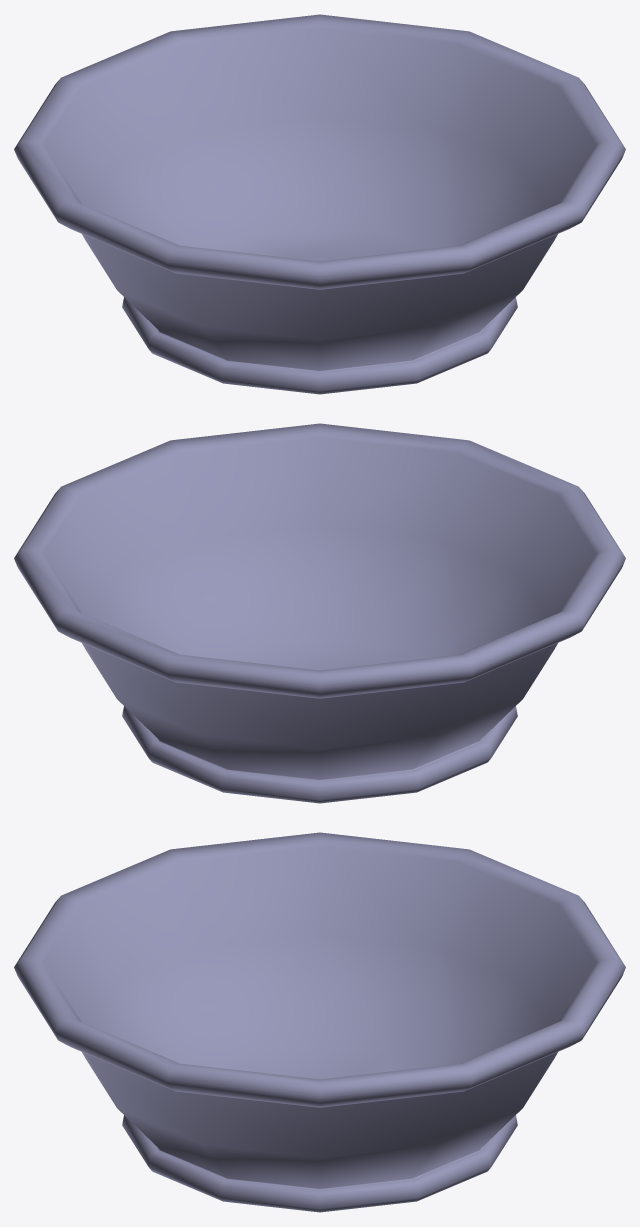
The model's file is Bowl.fbx.
3 renders of one model, top to bottom at view 1: azimuth 30°, elevation 25°; view 2: azimuth 150°, elevation 25°; view 3: azimuth 270°, elevation 25°, orthographic.
Parts seen in each view (by area): view 1: bowl; view 2: bowl; view 3: bowl.
Boxes of the visible parts, x1,y1,x2,y2 form: bowl: [14, 14, 625, 394]; bowl: [14, 423, 625, 803]; bowl: [14, 832, 625, 1212].
Size of the model in its own units: 190 by 59.08 by 190.
